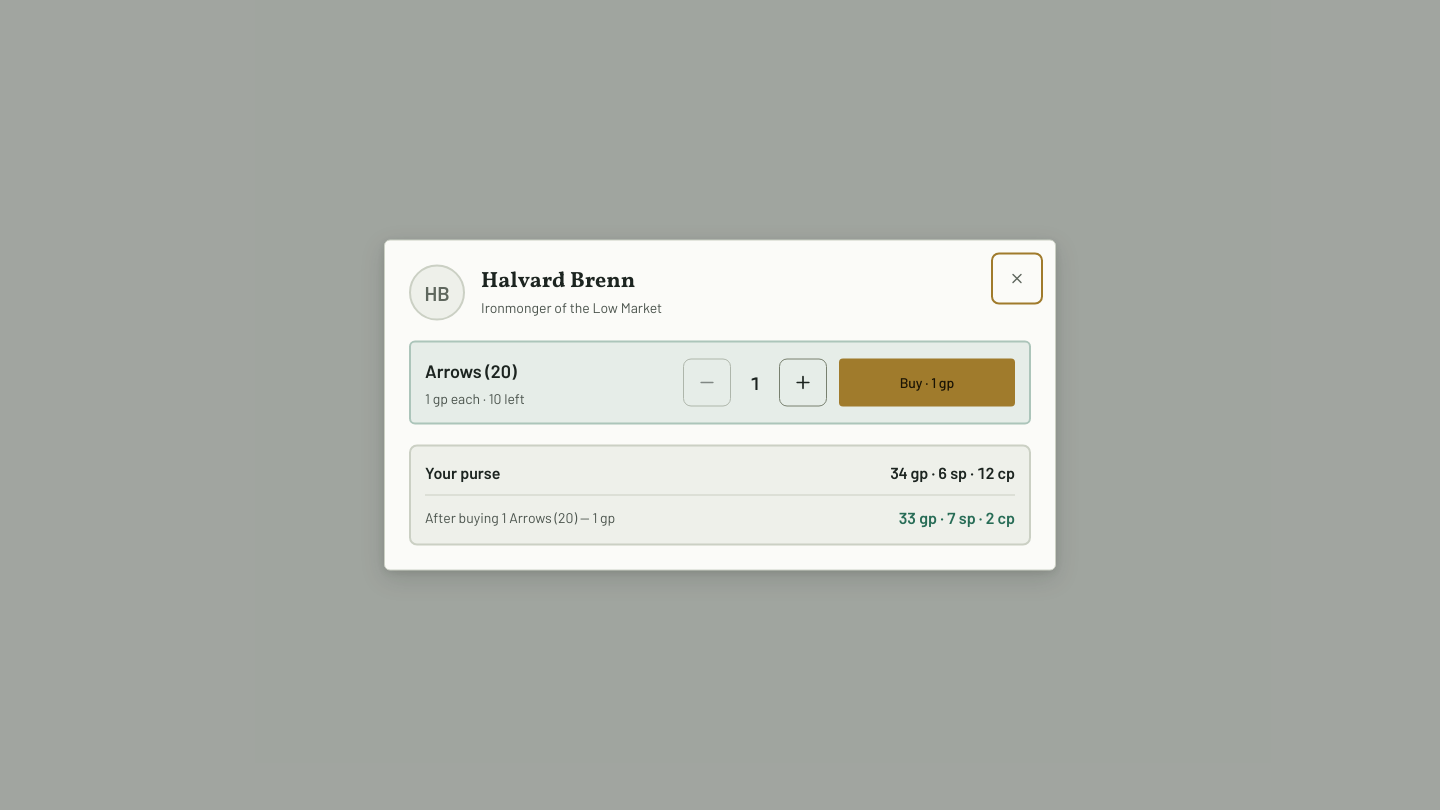
Test: shortfall + preview computation › shows the footer purse total and, once an item is focused, the post-purchase preview computed via spendCopper
The image size is (1440, 810).
Check: the heading "Halvard Brenn" is shown, box [481, 268, 662, 295]
Check: the text "34 gp · 6 sp · 12 cp" is shown, box [890, 460, 1015, 484]
Click the button named "More Arrows (20)".
click(803, 382)  # box [779, 358, 827, 406]
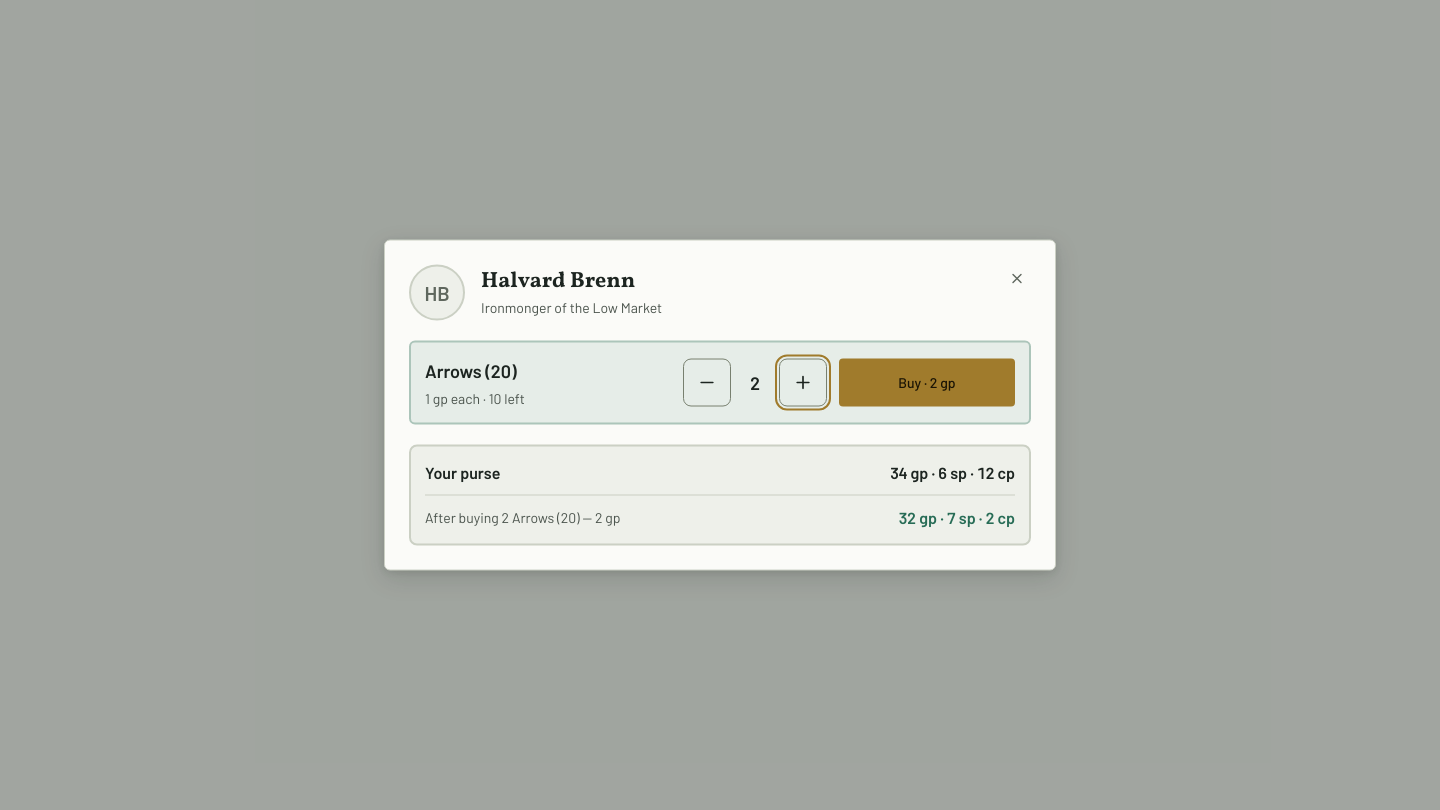
Check: the text "After buying 2 Arrows (20) — 2 gp" is shown, box [425, 508, 620, 528]
